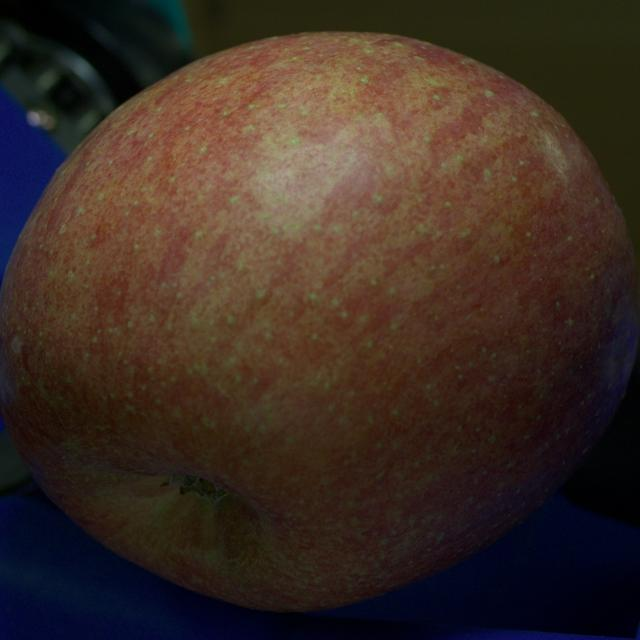apple: (0, 32, 639, 611)
